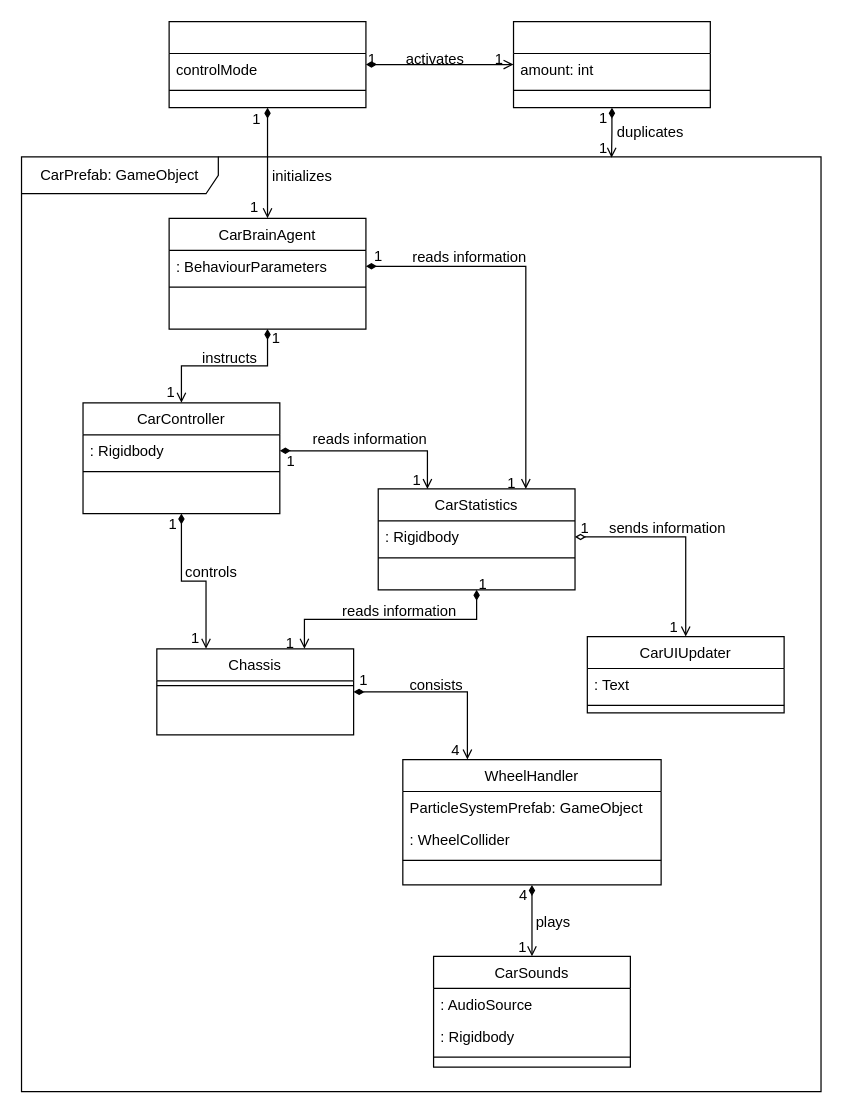
This 843x1113 diagram has some shape labels left out. The box of each missing label's shape, as (x1, y1, x2, y2) in pixels:
Duplicator: (512, 20, 710, 108)
ModeSelect: (168, 20, 366, 108)
